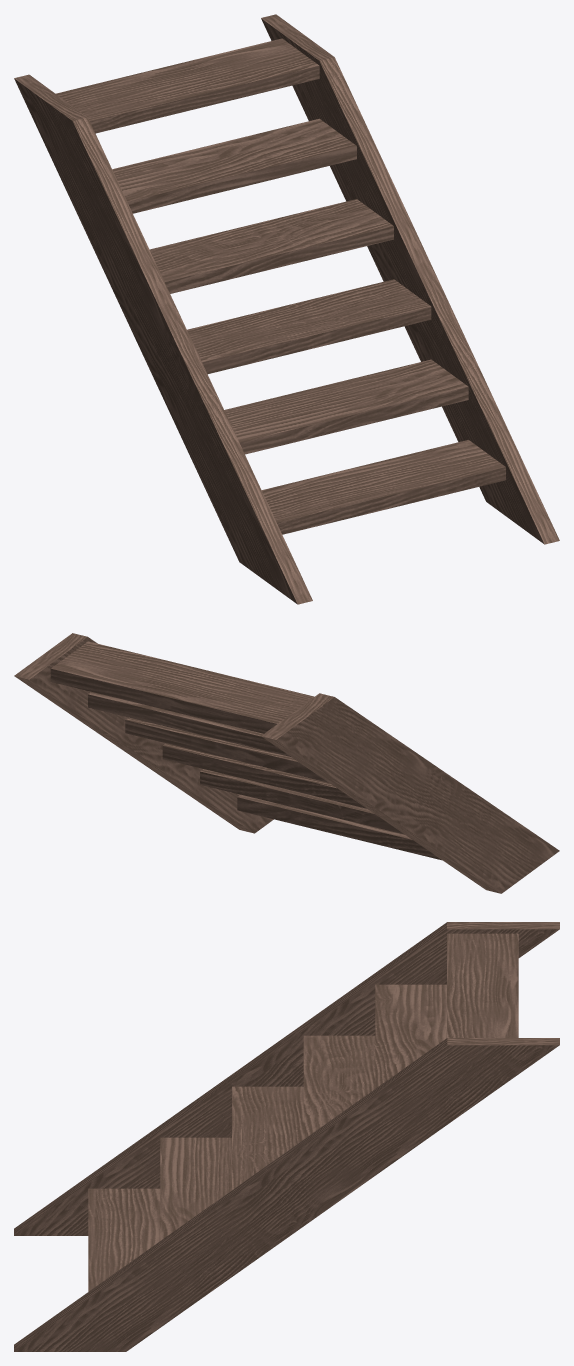
Rendered from ladder_016.fbx.
3 renders of one model, top to bottom at view 1: azimuth 30°, elevation 25°; view 2: azimuth 150°, elevation 25°; view 3: azimuth 270°, elevation 25°, orthographic. The views are drawn at different scales.
Visible parts, largest first — view 1: ladder_016; view 2: ladder_016; view 3: ladder_016.
Boxes of the visible parts, <box> form: ladder_016: <box>14,14,559,604</box>; ladder_016: <box>14,633,559,893</box>; ladder_016: <box>14,922,559,1351</box>.
Size of the model in its own units: 172 by 323 by 200.
